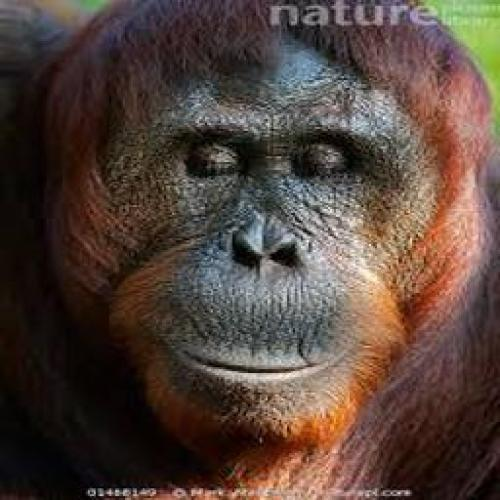orangutan-endangered: (9, 8, 491, 488)
